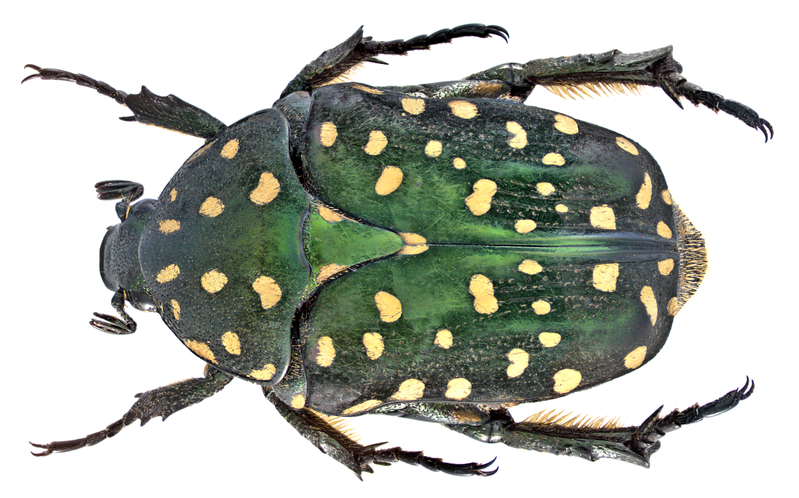Protaetia_niveoguttata: (16, 14, 786, 490)
